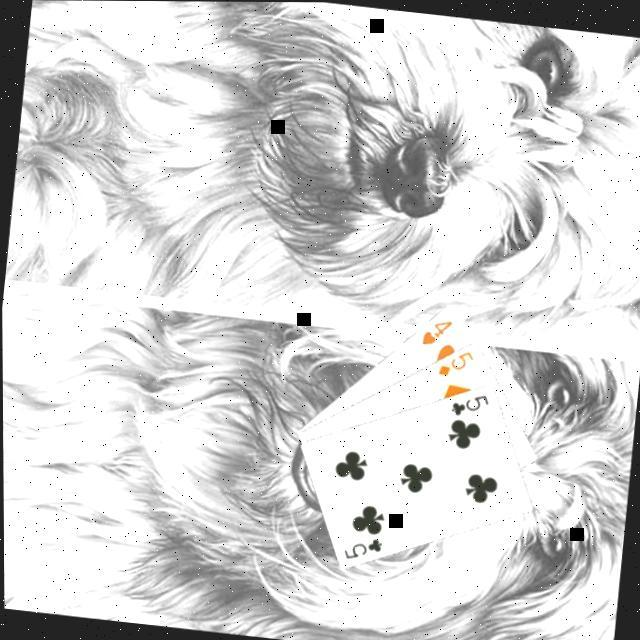4H: (420, 310, 458, 347)
5C: (448, 385, 494, 419), (341, 528, 387, 562)
5D: (436, 341, 478, 379)
